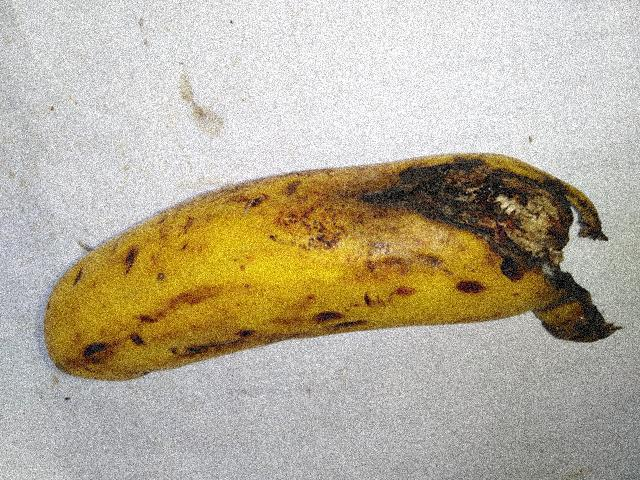ripe: (38, 147, 373, 394)
rotten: (332, 98, 616, 309)
